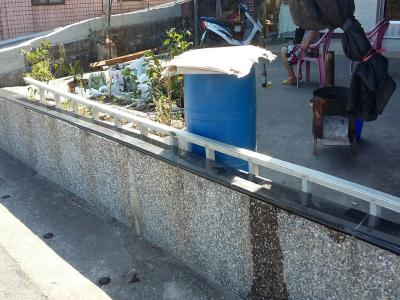bucket: (180, 65, 260, 172)
